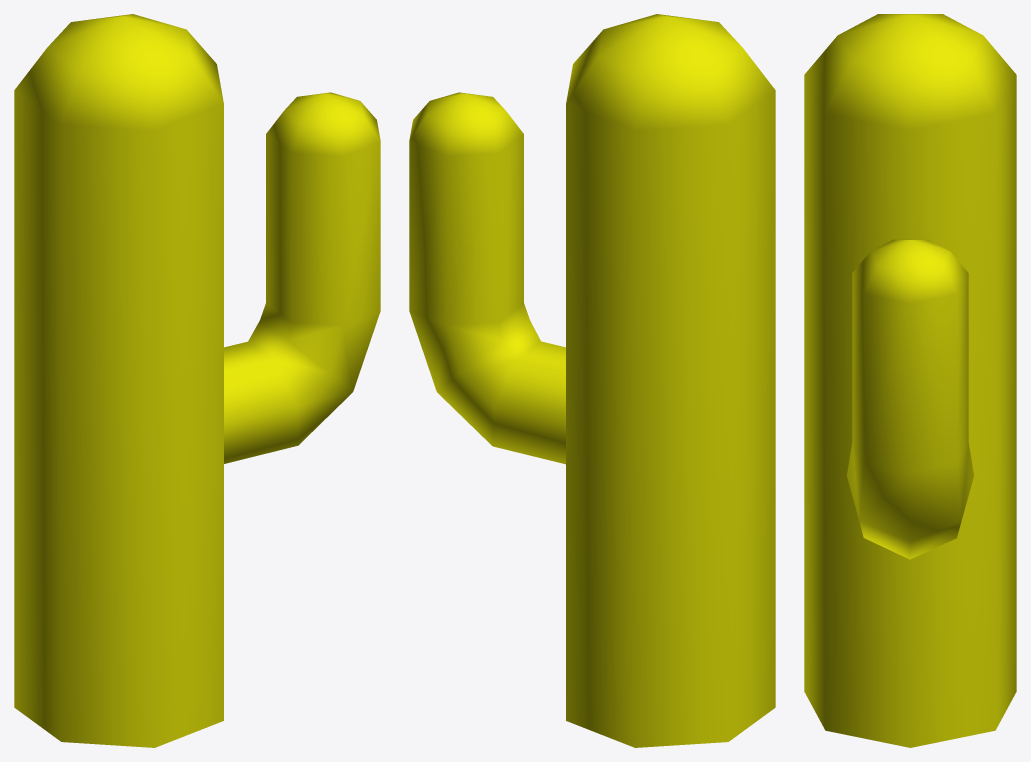
3 views of the same model, side by side, from view 1: azimuth 30°, elevation 25°; view 2: azimuth 150°, elevation 25°; view 3: azimuth 270°, elevation 25° (orthographic).
Parts seen in each view (by area): view 1: tree_2; view 2: tree_2; view 3: tree_2.
Boxes of the visible parts, x1,y1,x2,y2 form: tree_2: [14, 14, 380, 747]; tree_2: [409, 14, 775, 747]; tree_2: [804, 14, 1016, 747].
Bounding box in the file's own units: 1.7 × 3.3 × 0.9232.
1 material, 1 textured.
